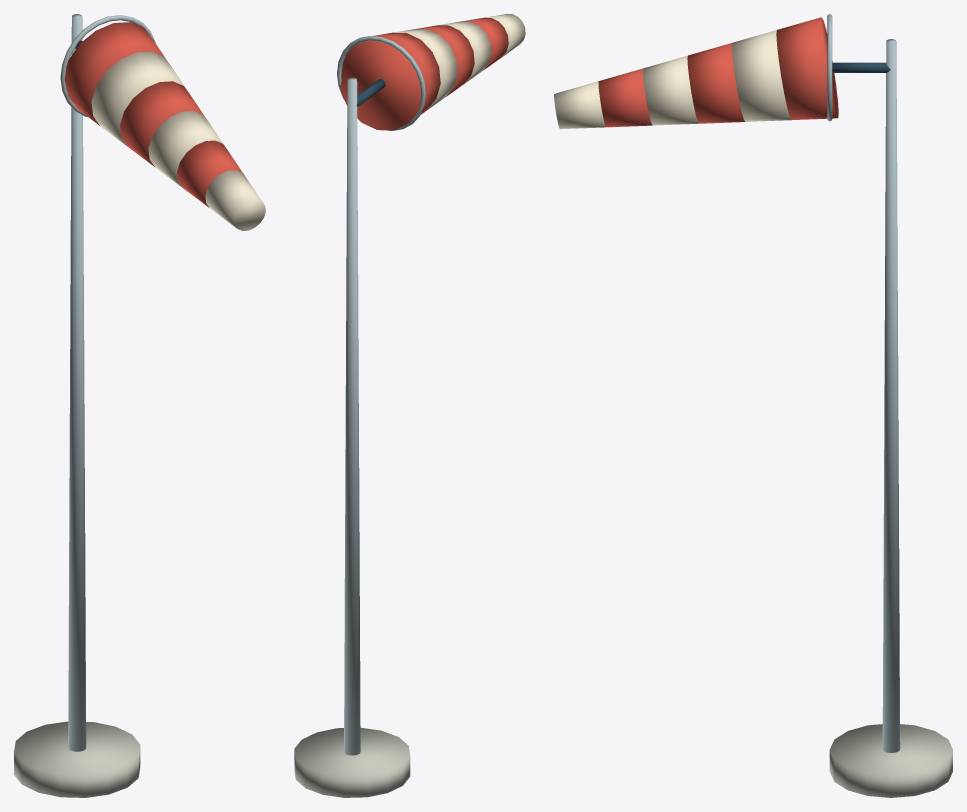
File: wind_sock.glb
3 renders of one model, left to right at view 1: azimuth 30°, elevation 25°; view 2: azimuth 150°, elevation 25°; view 3: azimuth 270°, elevation 25°, orthographic. The views are drawn at different scales.
Visible parts, largest first — view 1: wind_sock_Aluminium, wind_sock_Paint, wind_sock_Ivory, wind_sock_Concrete; view 2: wind_sock_Aluminium, wind_sock_Paint, wind_sock_Concrete, wind_sock_Ivory; view 3: wind_sock_Aluminium, wind_sock_Paint, wind_sock_Ivory, wind_sock_Concrete.
Boxes of the visible parts, x1=… form: wind_sock_Aluminium: x1=60, y1=14, x2=155, y2=751; wind_sock_Paint: x1=64, y1=22, x2=243, y2=207; wind_sock_Ivory: x1=91, y1=51, x2=265, y2=230; wind_sock_Concrete: x1=14, y1=721, x2=140, y2=797; wind_sock_Aluminium: x1=337, y1=36, x2=425, y2=755; wind_sock_Paint: x1=340, y1=17, x2=508, y2=130; wind_sock_Concrete: x1=294, y1=727, x2=410, y2=797; wind_sock_Ivory: x1=394, y1=14, x2=525, y2=109; wind_sock_Aluminium: x1=827, y1=14, x2=900, y2=752; wind_sock_Paint: x1=598, y1=17, x2=838, y2=127; wind_sock_Ivory: x1=554, y1=30, x2=791, y2=129; wind_sock_Concrete: x1=829, y1=724, x2=952, y2=797.
Bounding box in the file's own units: 0.84 × 5.67 × 2.72.
